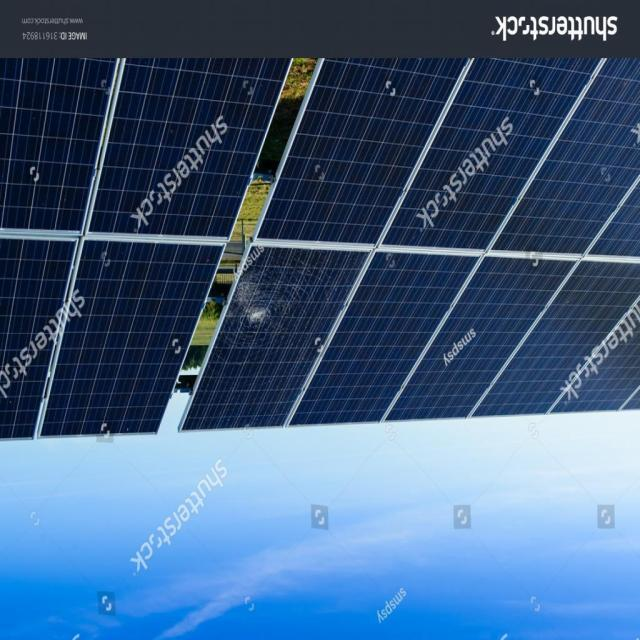cracked: (202, 247, 358, 428)
